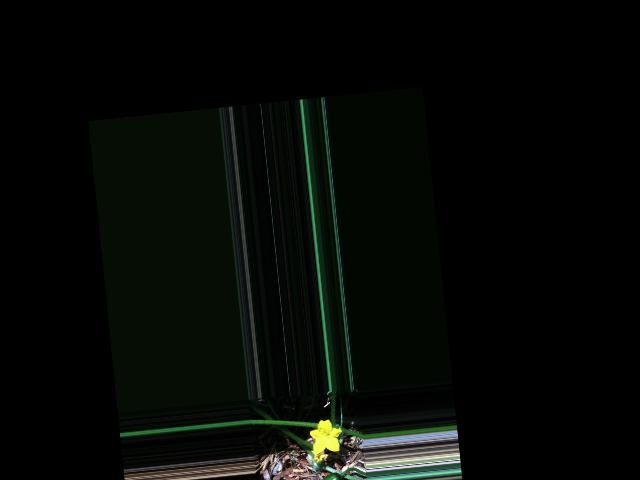cucumber: (277, 471, 345, 480)
